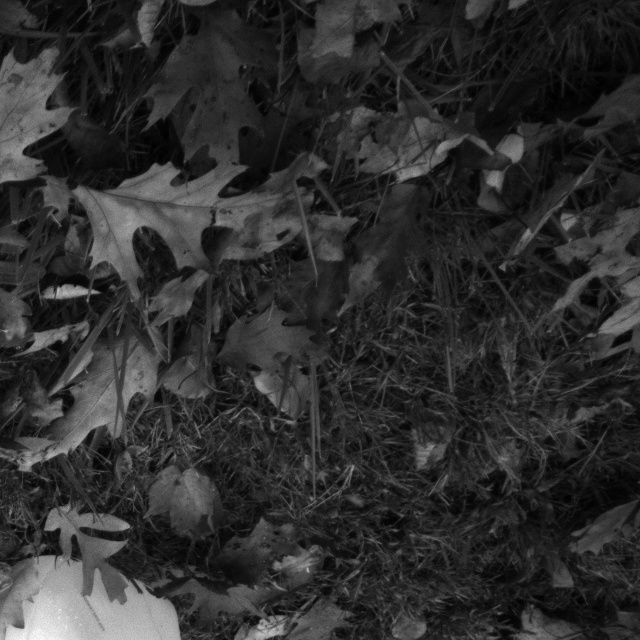can: (0, 553, 217, 640)
